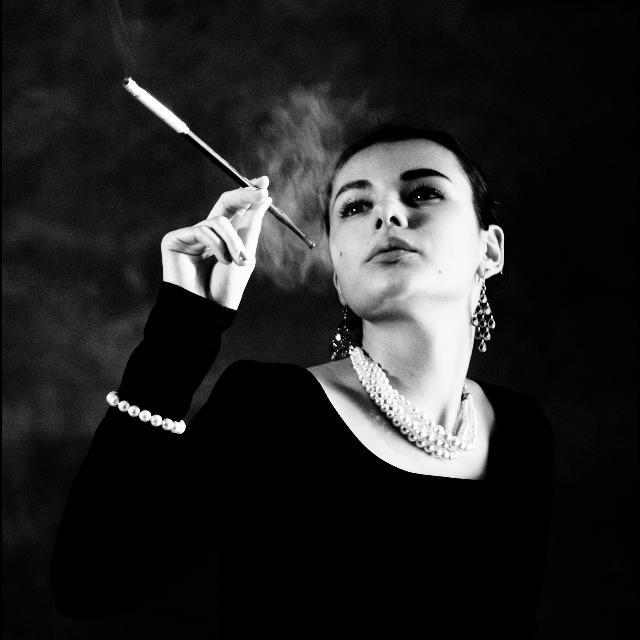rokok: (112, 70, 190, 132)
